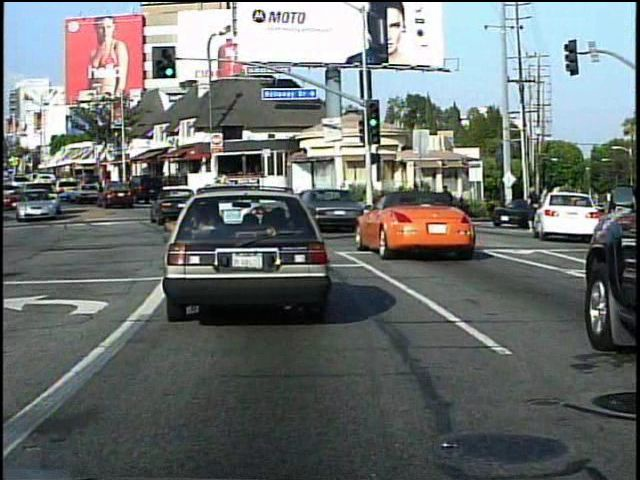person: (521, 179, 545, 240), (438, 183, 455, 223)
